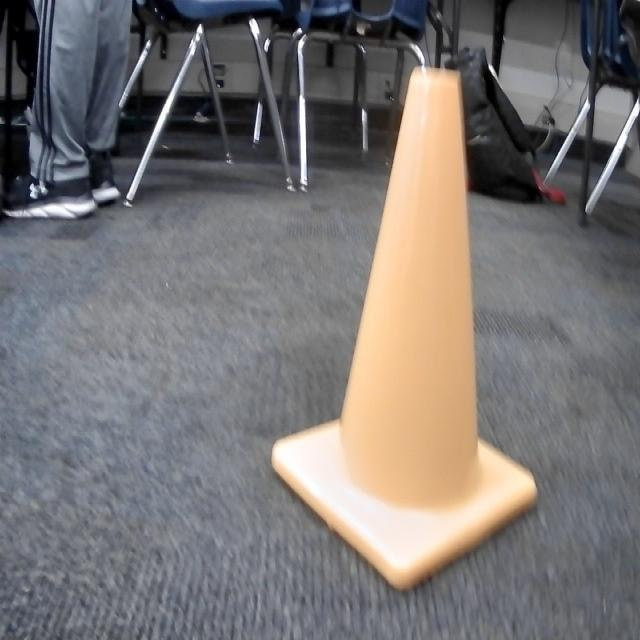cone: (269, 65, 539, 589)
